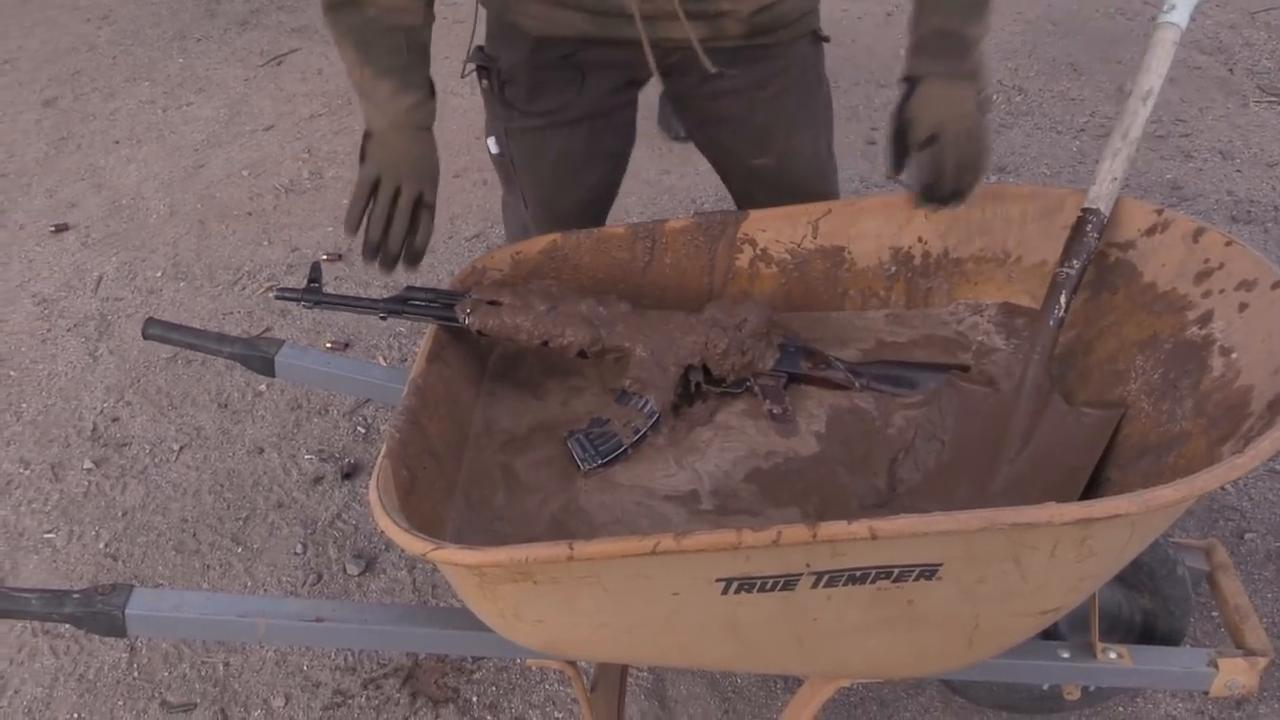AK47 Rifle: (276, 265, 975, 474)
